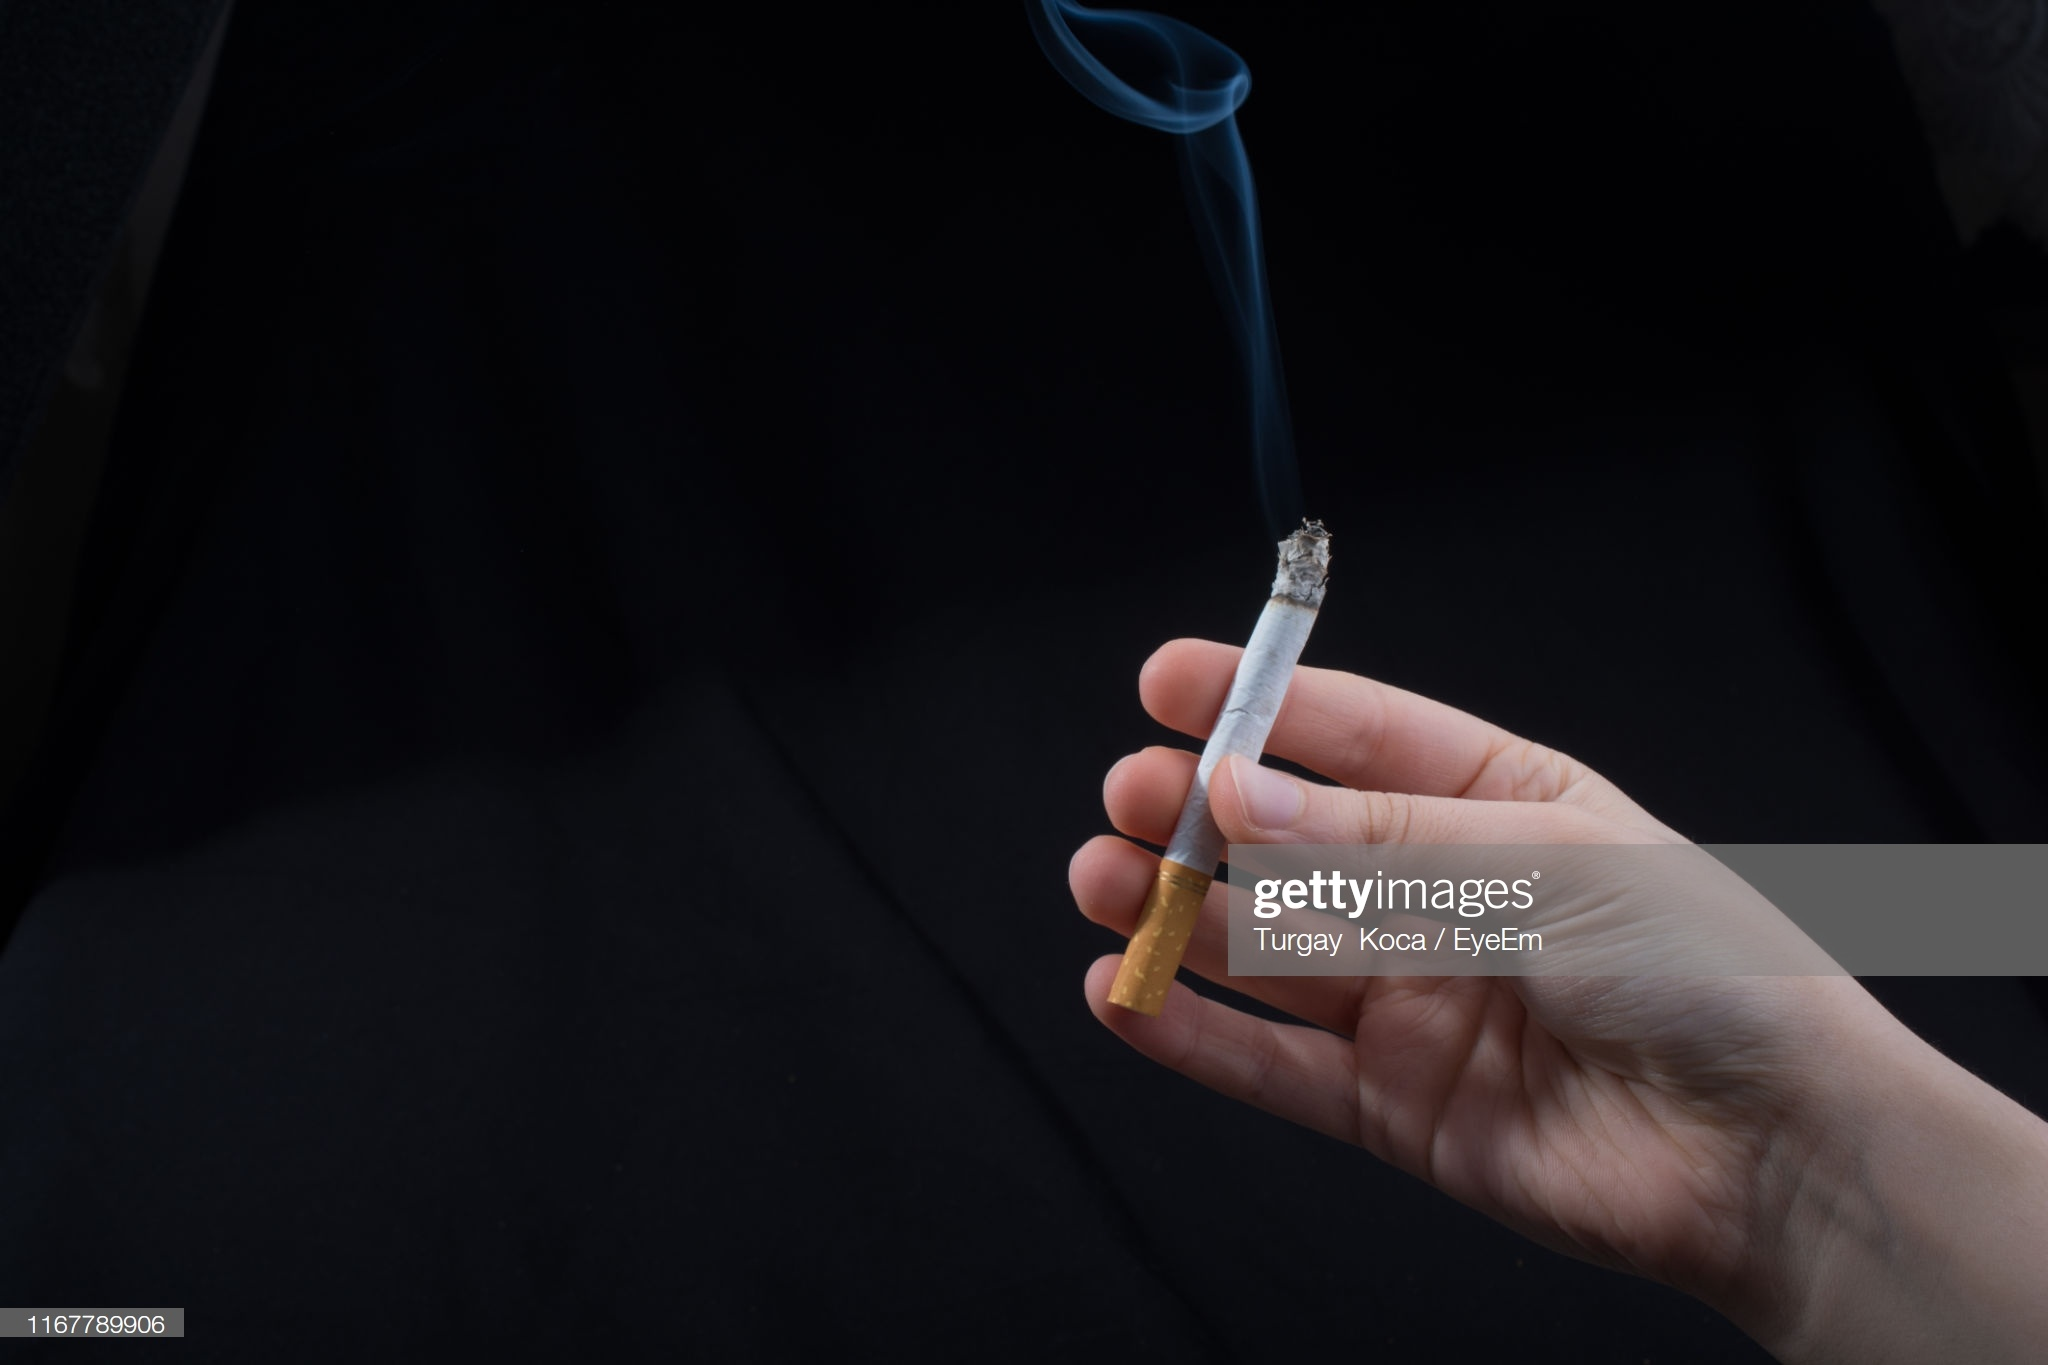sigaretta: (1116, 542, 1306, 1024)
